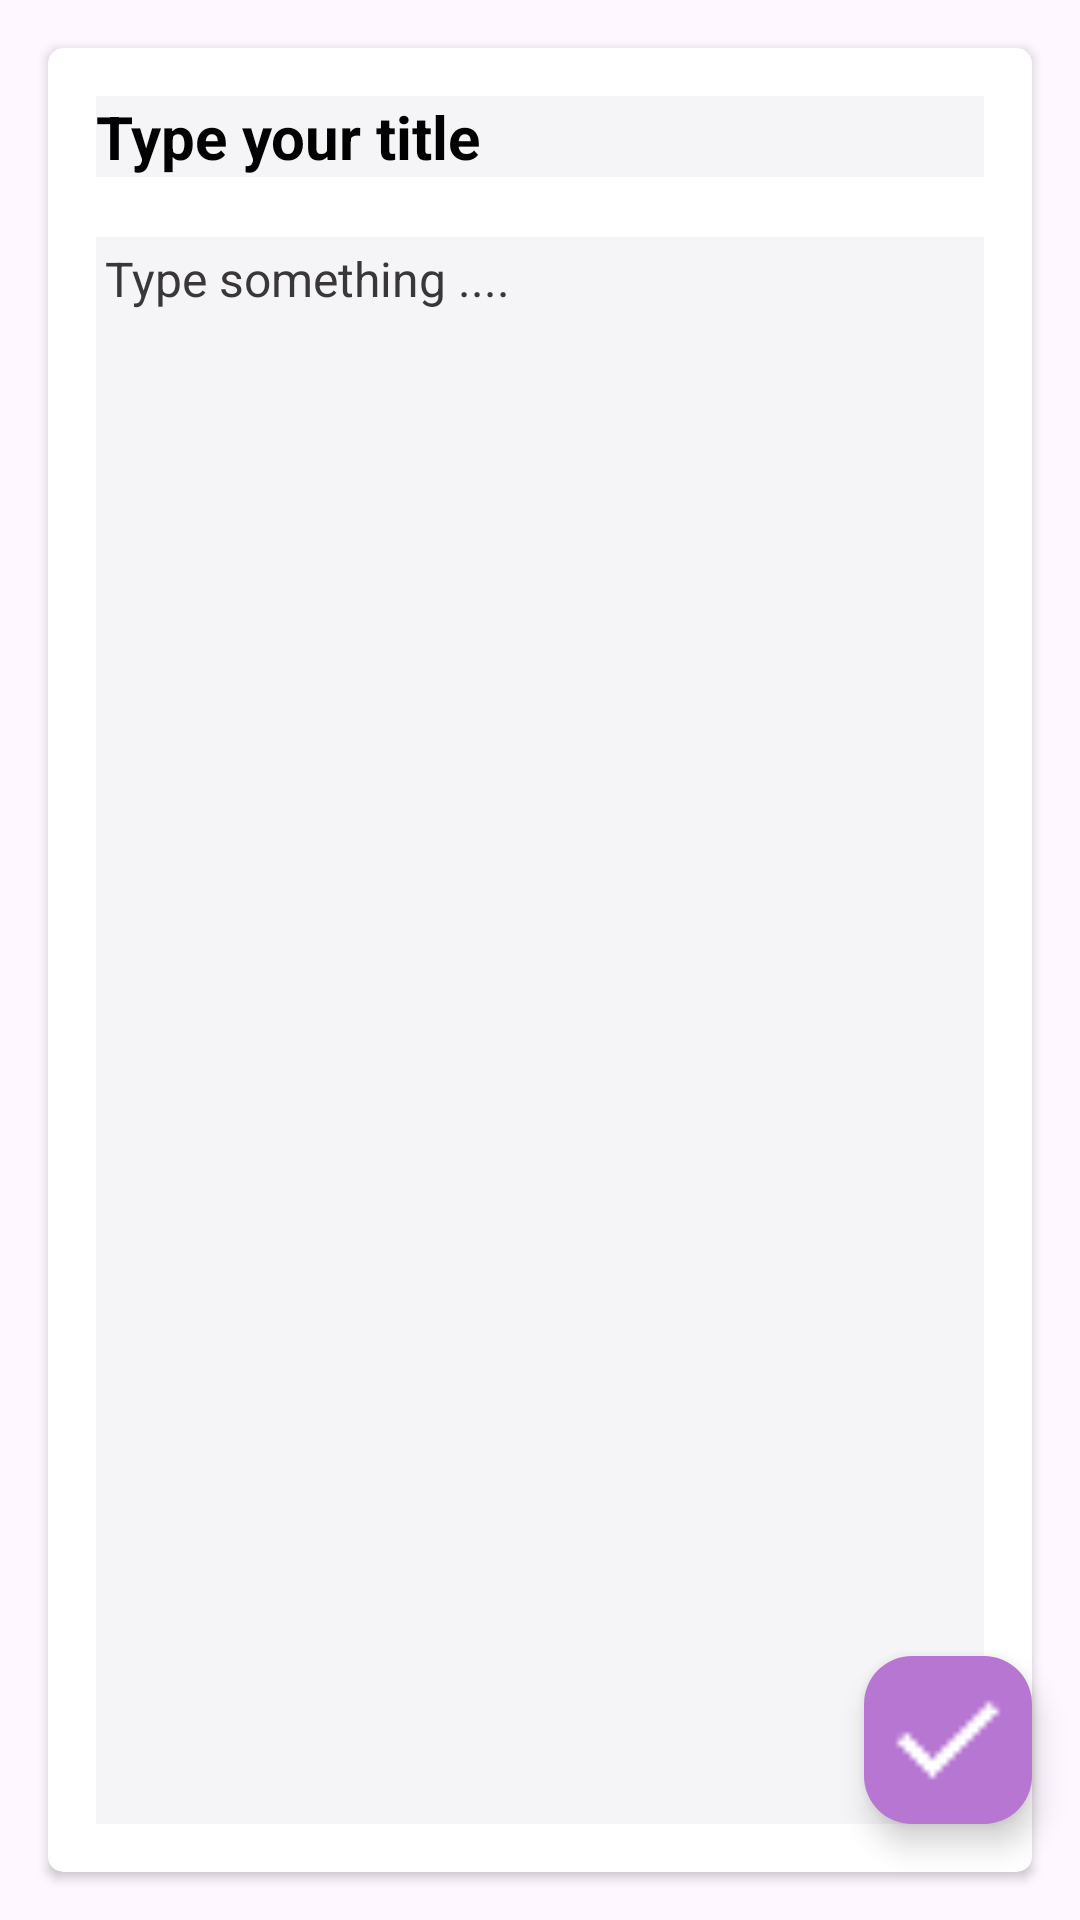

Screen size 1080 × 1920. Icon name, then its box in pixels as [x1,y1,x2,y2]:
chekc: [864,1656,1032,1824]
